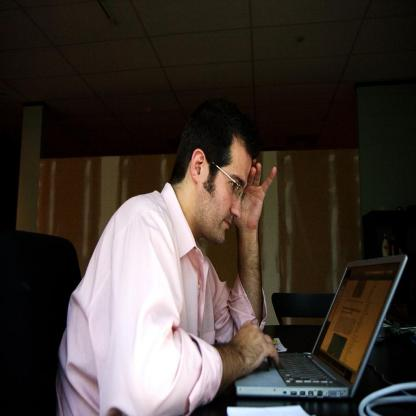board: (236, 253, 407, 396)
